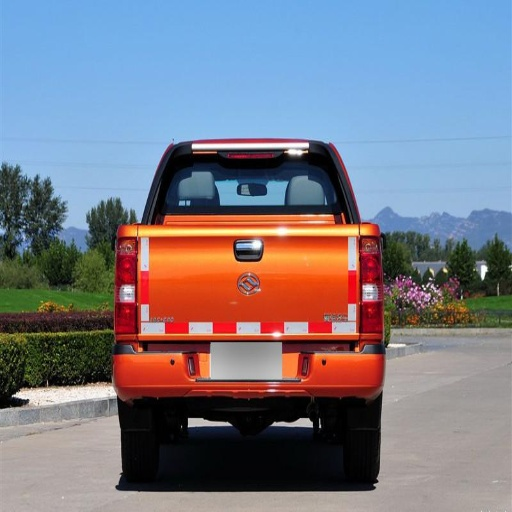_background_: (114, 341, 383, 406)
back_bumper: (157, 149, 339, 212)
back_left_door: (115, 227, 140, 335)
back_right_door: (358, 224, 384, 347)
tailgate: (138, 214, 360, 364)
trunk: (337, 405, 378, 488), (123, 407, 160, 483)
